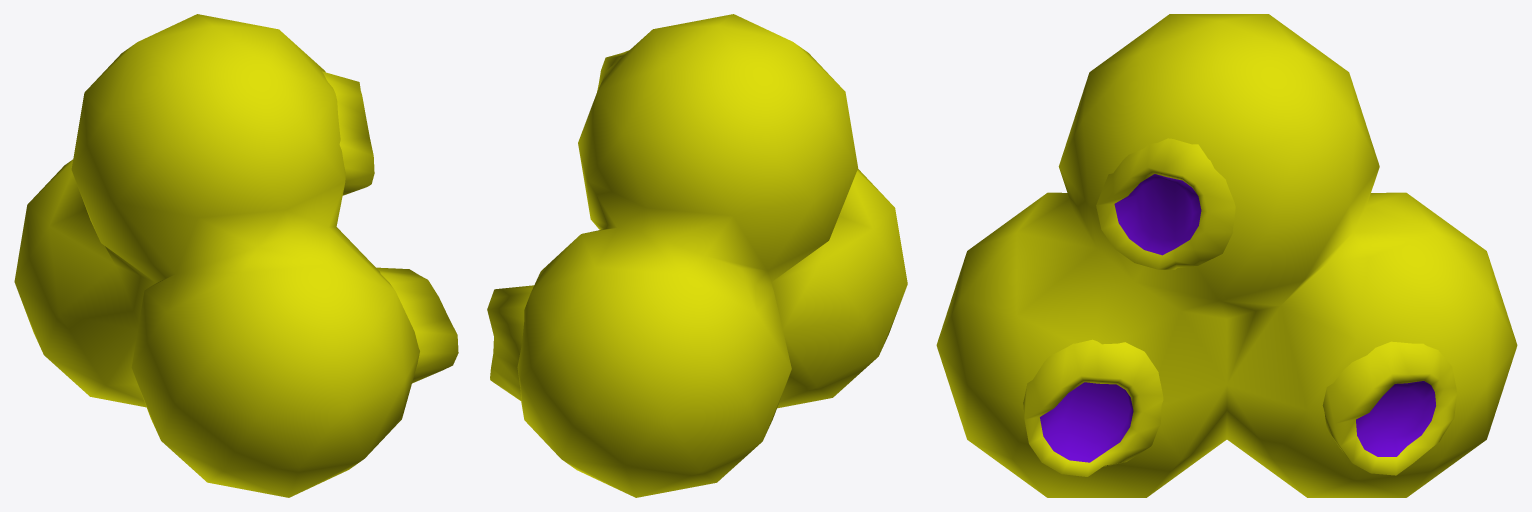
File: yagoda.fbx
3 renders of one model, left to right at view 1: azimuth 30°, elevation 25°; view 2: azimuth 150°, elevation 25°; view 3: azimuth 270°, elevation 25°, orthographic. The views are drawn at different scales.
Parts seen in each view (by area): view 1: Yagodi; view 2: Yagodi; view 3: Yagodi.
Part boxes in pixels (x1,y1,x2,y2): Yagodi: (14, 14, 458, 497); Yagodi: (487, 14, 907, 497); Yagodi: (936, 14, 1517, 497).
Size of the model in its own units: 29.92 by 42.43 by 47.84.
